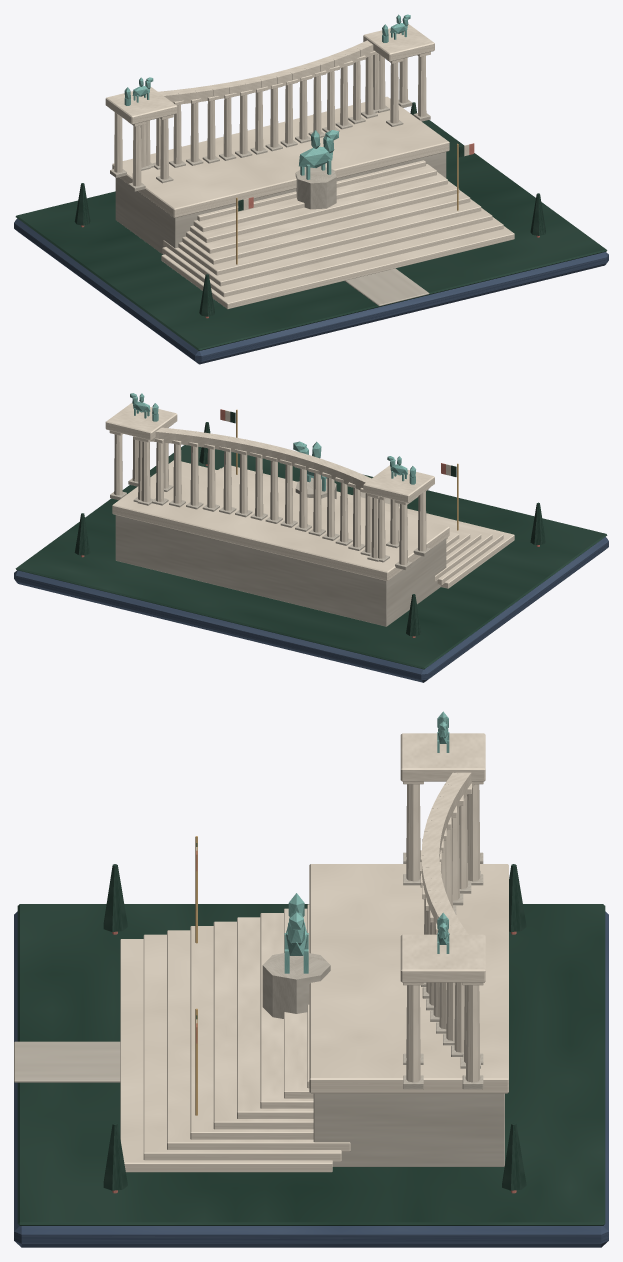
The model's file is vittoriano-diorama.glb.
3 views of the same model, one above another, from view 1: azimuth 30°, elevation 25°; view 2: azimuth 150°, elevation 25°; view 3: azimuth 270°, elevation 25° (orthographic). The views are drawn at different scales.
Parts seen in each view (by area): view 1: vittoriano; view 2: vittoriano; view 3: vittoriano.
Boxes of the visible parts, box(x1,y1,x2,y2) form: vittoriano: box(14, 14, 608, 364); vittoriano: box(14, 393, 608, 682); vittoriano: box(14, 711, 608, 1247).
Bounding box in the file's own units: 18 × 7.18 × 14.
Materials: 1 (1 with a texture image).
